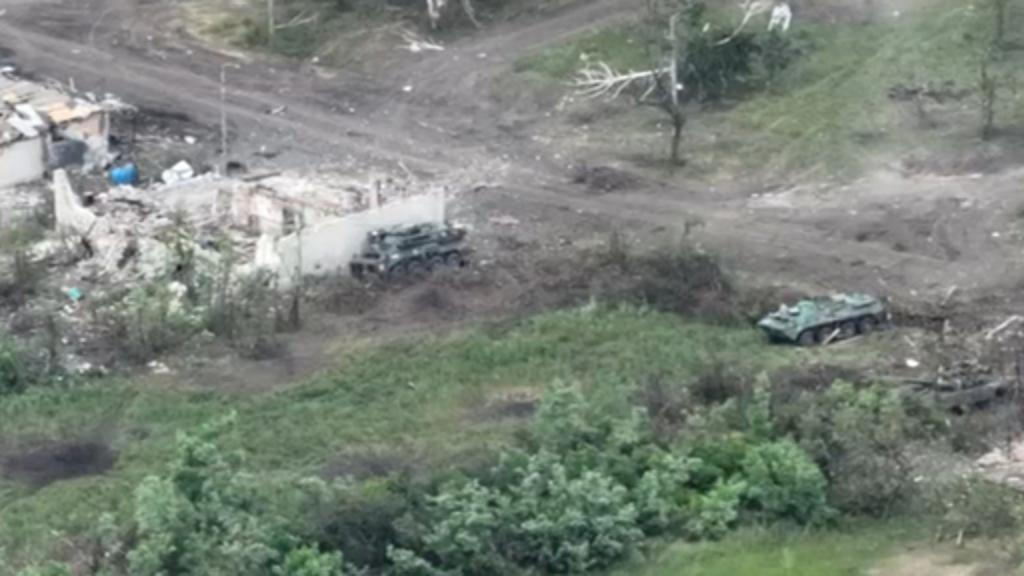APC-IFV: (748, 270, 892, 352), (348, 204, 482, 288)
TANK: (862, 350, 1012, 414)
